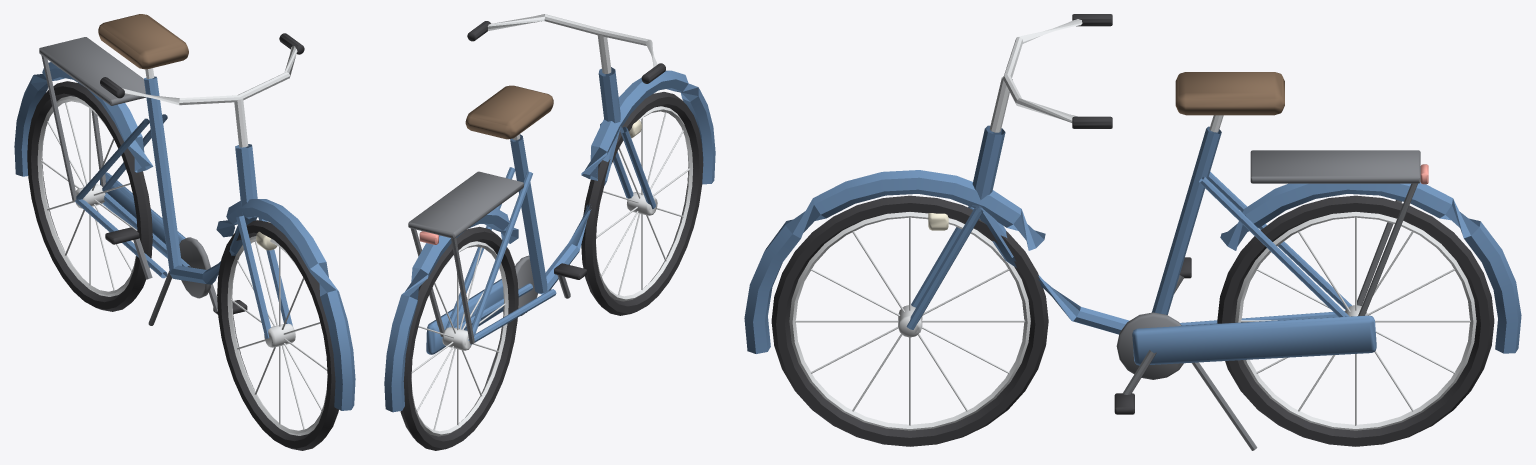
File: bicycle_d.glb
3 renders of one model, left to right at view 1: azimuth 30°, elevation 25°; view 2: azimuth 150°, elevation 25°; view 3: azimuth 270°, elevation 25°, orthographic. The views are drawn at different scales.
Visible parts, largest first — view 1: Body; view 2: Body; view 3: Body.
Part boxes in pixels (x1,y1,x2,y2): Body: (14, 14, 355, 450); Body: (384, 14, 715, 450); Body: (744, 14, 1521, 450).
Bounding box in the file's own units: 0.6304 × 1.04 × 1.92.
